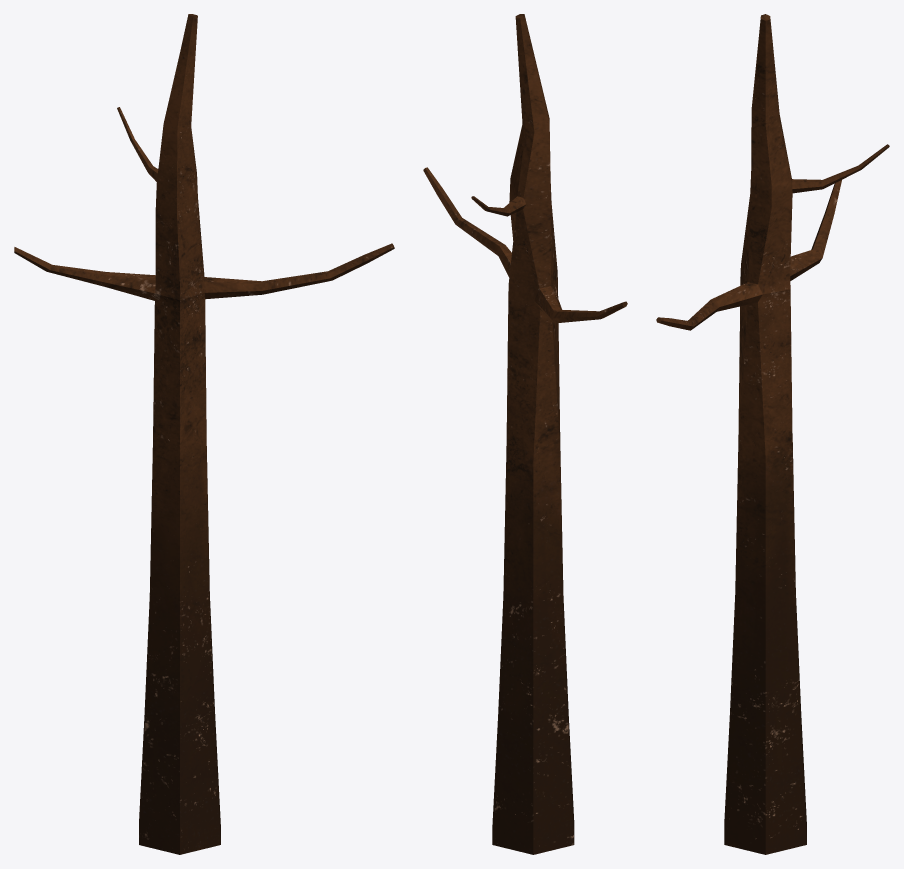
File: Tree_03_Nude.fbx
3 views of the same model, side by side, from view 1: azimuth 30°, elevation 25°; view 2: azimuth 150°, elevation 25°; view 3: azimuth 270°, elevation 25° (orthographic).
Parts seen in each view (by area): view 1: B1; view 2: B1; view 3: B1.
Boxes of the visible parts, x1=… form: B1: x1=14, y1=14, x2=394, y2=854; B1: x1=423, y1=14, x2=627, y2=854; B1: x1=656, y1=14, x2=889, y2=854.
Bounding box in the file's own units: 10.87 × 29.06 × 7.46.
